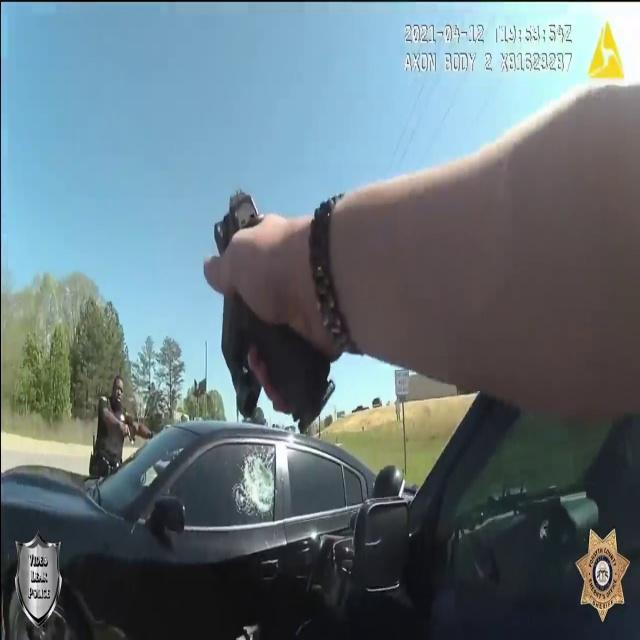weapon: (204, 184, 341, 432), (124, 418, 140, 446)
